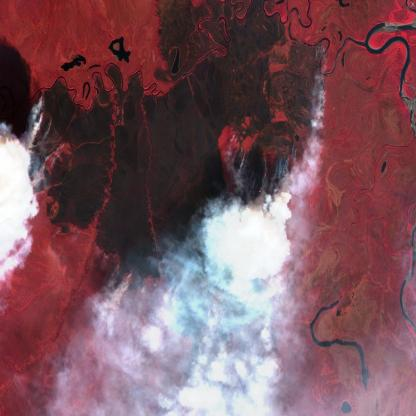fire: (15, 39, 329, 377)
